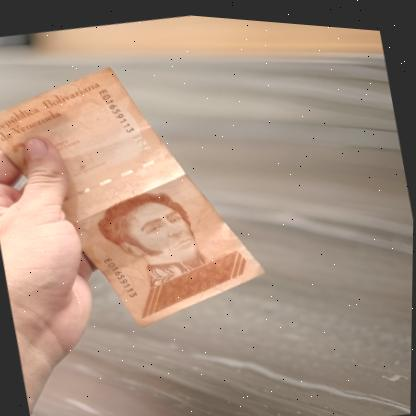vef_front: (0, 33, 277, 359)
